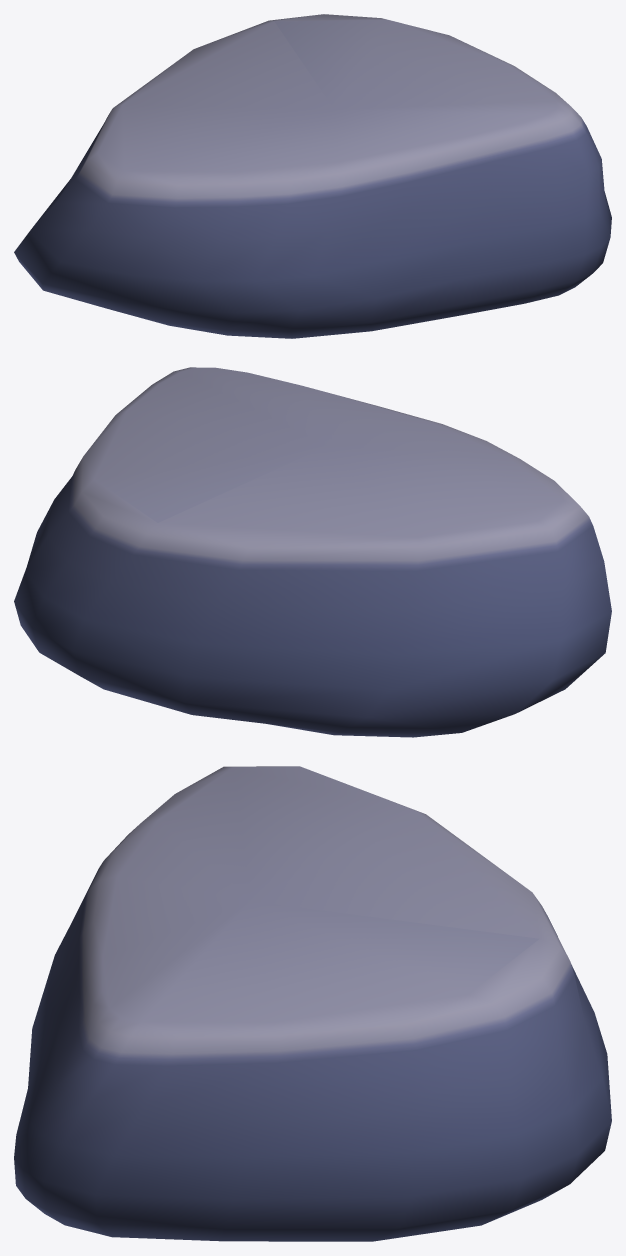
File: block_rock_2_2.fbx
3 views of the same model, one above another, from view 1: azimuth 30°, elevation 25°; view 2: azimuth 150°, elevation 25°; view 3: azimuth 270°, elevation 25° (orthographic). The views are drawn at different scales.
Parts seen in each view (by area): view 1: block_rock_2_2; view 2: block_rock_2_2; view 3: block_rock_2_2.
Part boxes in pixels (left/top/right/bottom): block_rock_2_2: left=14, top=14, right=611, bottom=338; block_rock_2_2: left=14, top=367, right=611, bottom=737; block_rock_2_2: left=14, top=766, right=611, bottom=1241.
Size of the model in its own units: 105 by 34.8 by 82.81.
